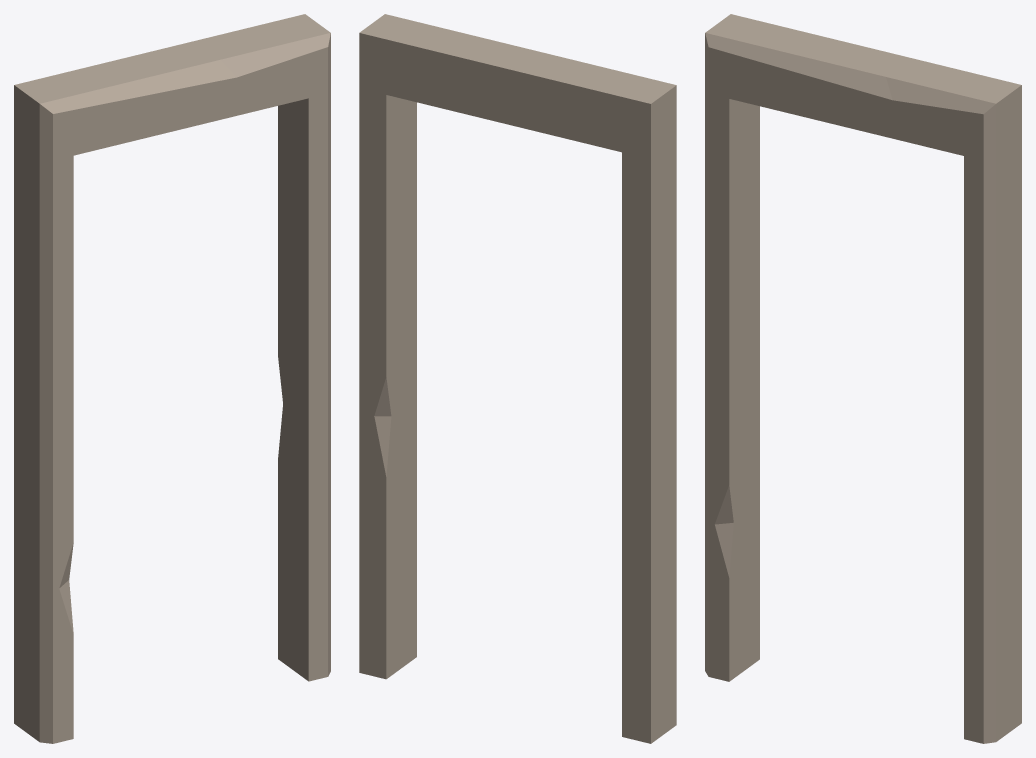
The model's file is SM_Bld_Shop_Door_02.fbx.
3 renders of one model, left to right at view 1: azimuth 30°, elevation 25°; view 2: azimuth 150°, elevation 25°; view 3: azimuth 330°, elevation 25°, orthographic.
Parts seen in each view (by area): view 1: SM_Bld_Shop_Door_02; view 2: SM_Bld_Shop_Door_02; view 3: SM_Bld_Shop_Door_02.
Boxes of the visible parts, bbox=[...] form: SM_Bld_Shop_Door_02: bbox=[14, 14, 330, 743]; SM_Bld_Shop_Door_02: bbox=[359, 14, 676, 743]; SM_Bld_Shop_Door_02: bbox=[705, 14, 1021, 743].
Size of the model in its own units: 127 by 266 by 23.14.
